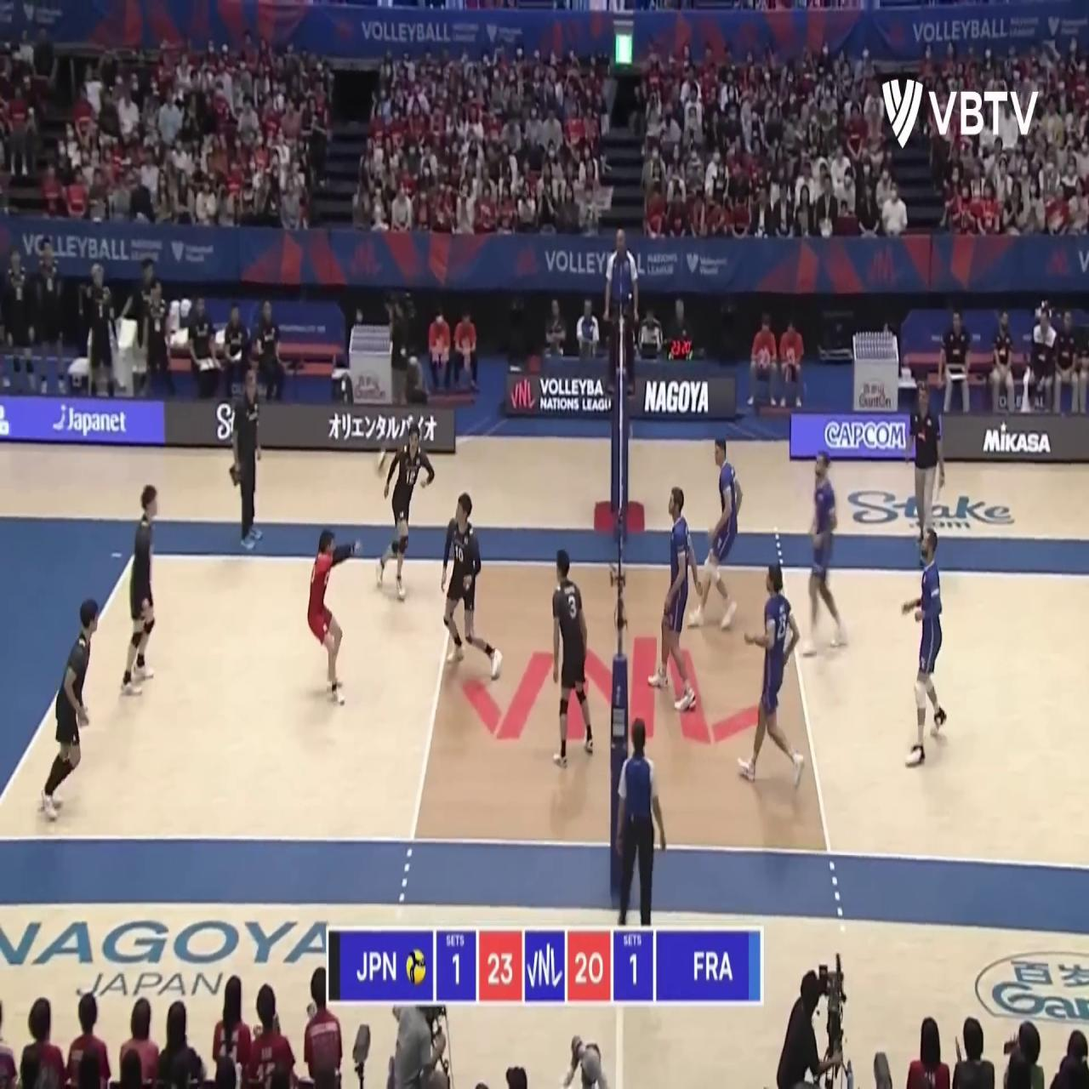ball: (375, 448, 388, 477)
